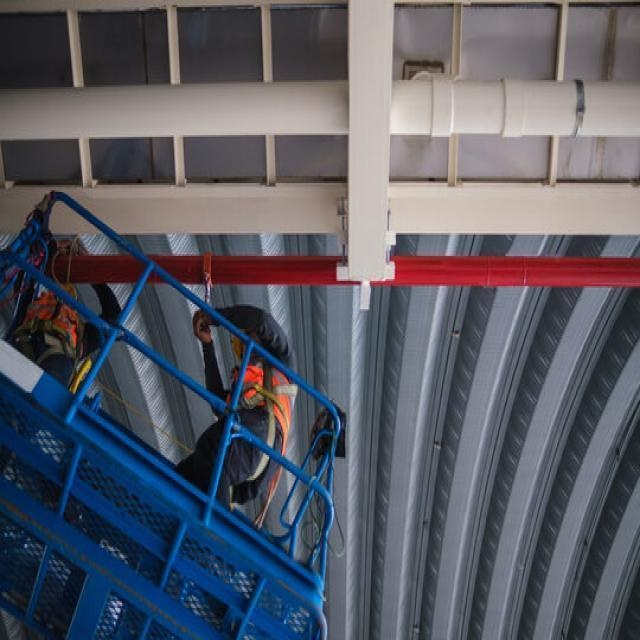Arnes_seguridad: (223, 359, 293, 503), (21, 283, 77, 366)
